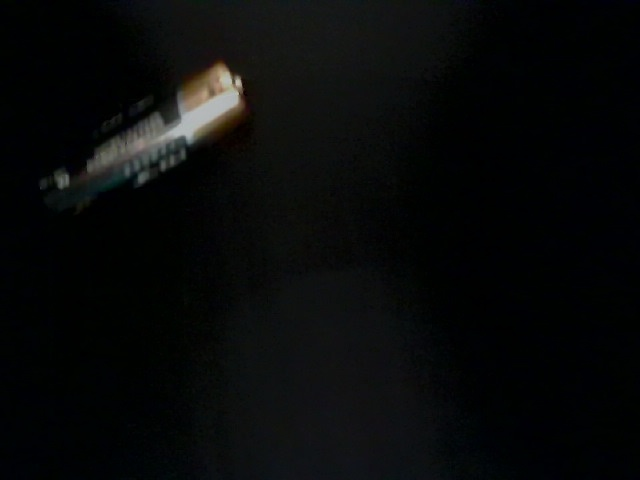QTLJ: (502, 212, 640, 418)
